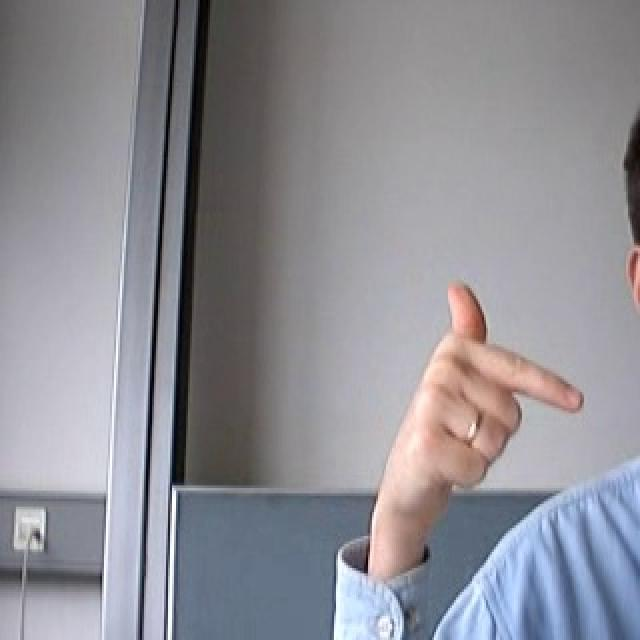T: (355, 267, 601, 550)
